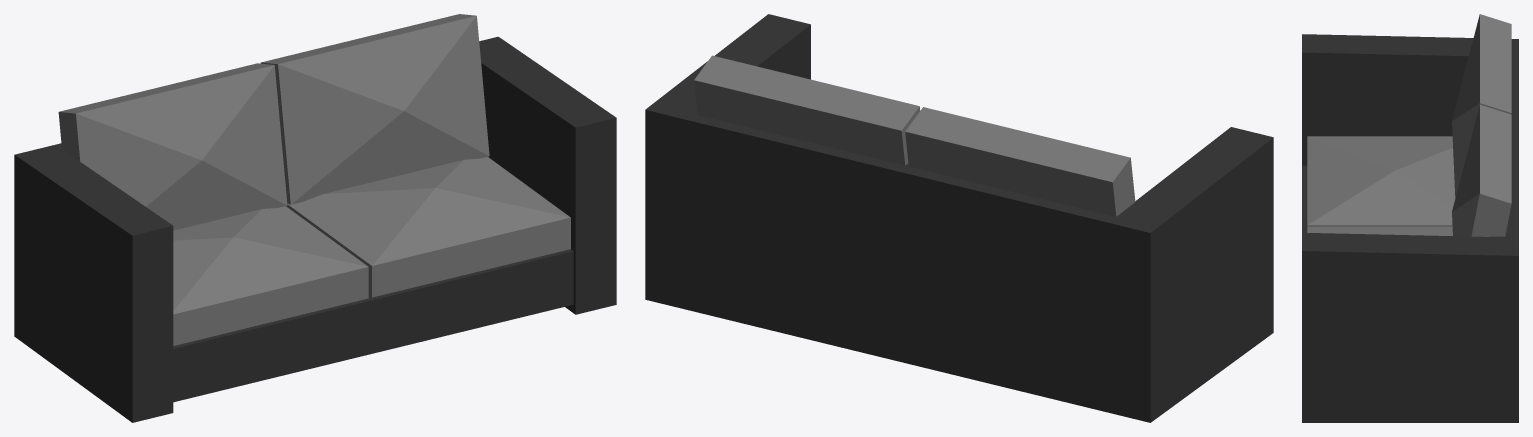
Rendered from Couch_3B.fbx.
3 views of the same model, side by side, from view 1: azimuth 30°, elevation 25°; view 2: azimuth 150°, elevation 25°; view 3: azimuth 270°, elevation 25° (orthographic). The views are drawn at different scales.
Visible parts, largest first — view 1: polySurface1848; view 2: polySurface1848; view 3: polySurface1848.
Boxes of the visible parts, <box> form: polySurface1848: <box>14,14,616,422</box>; polySurface1848: <box>645,14,1273,422</box>; polySurface1848: <box>1302,14,1518,422</box>.
Bounding box in the file's own units: 2.84 × 1.28 × 1.2.
1 material, 1 textured.
